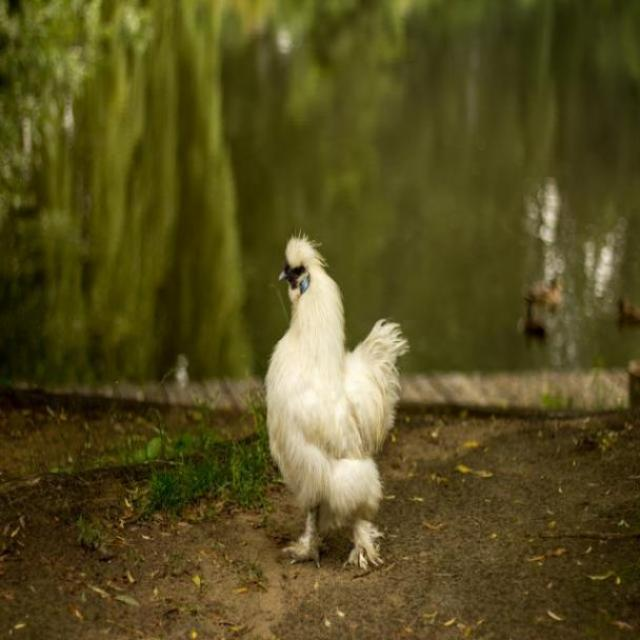Chicken: (261, 227, 420, 584)
